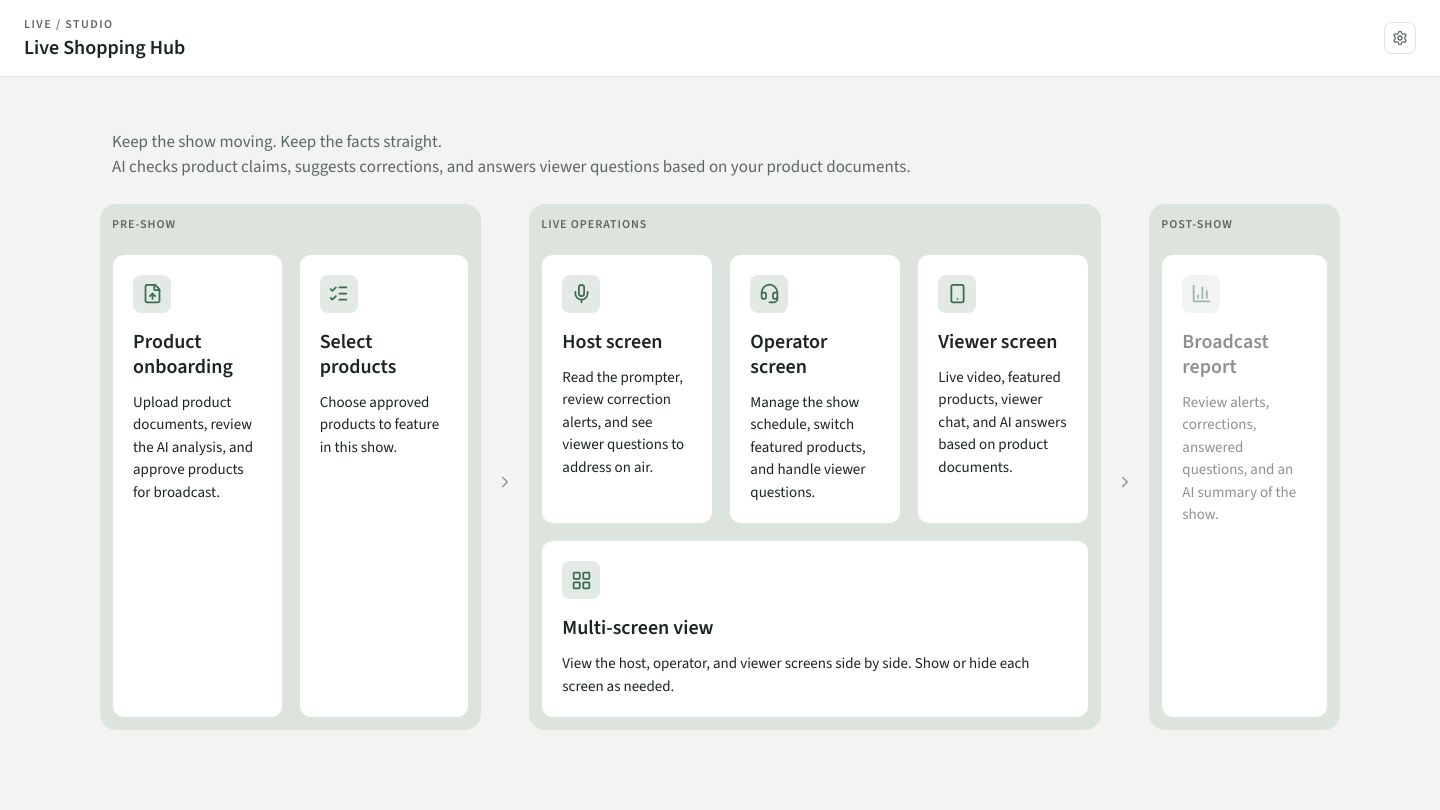
Test: screens › Hub points at Pick products when a During-the-show card is pressed with no show and no product
The image size is (1440, 810).
What coordinates should you click on to do the following:
click the link with test id "hub-card-host"
I would click on:
 (627, 389)
Its box is x1=541 y1=254 x2=713 y2=524.
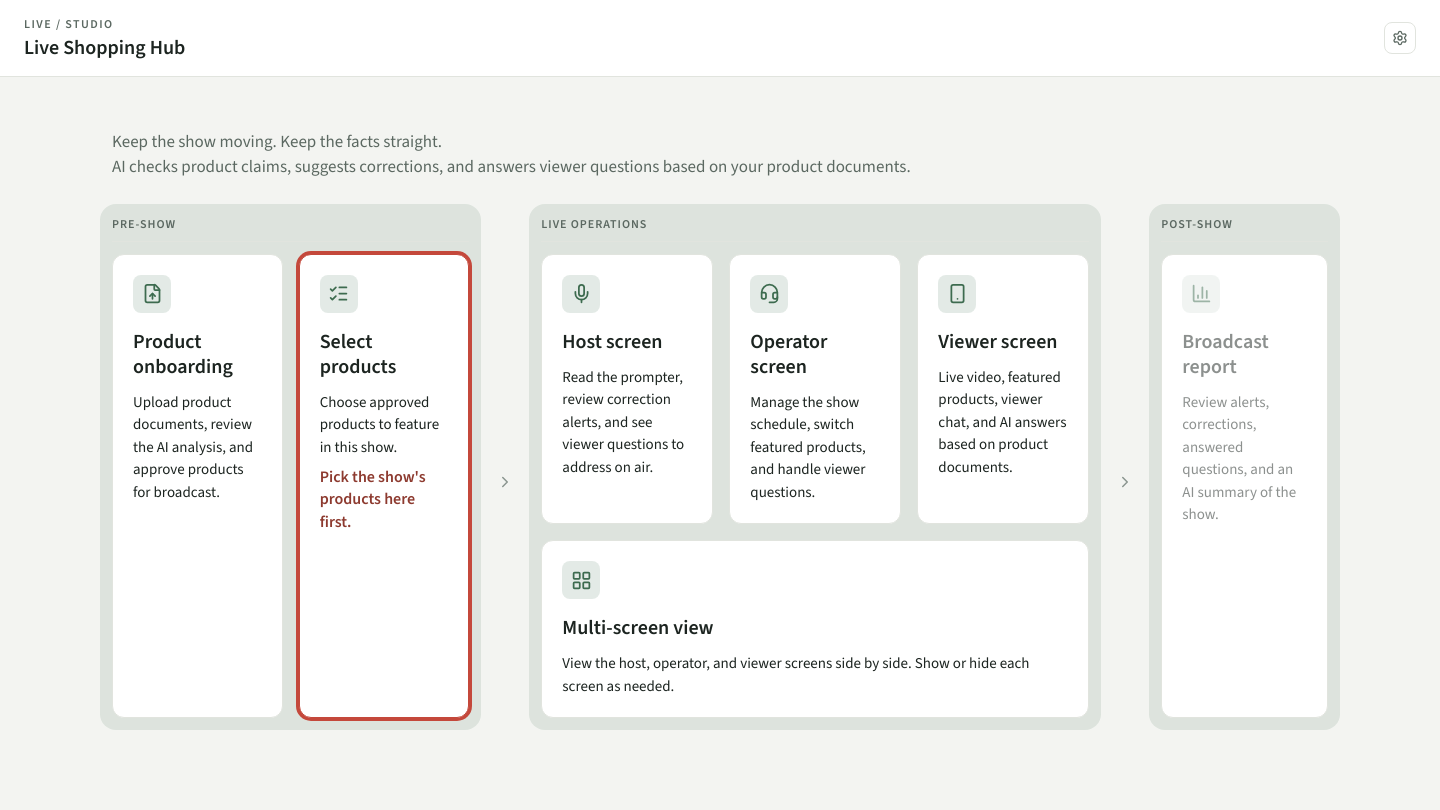
Expected: the message with test id "hub-pick-nudge" reads "Pick the show's products here first.", x1=320 y1=466 x2=426 y2=532
